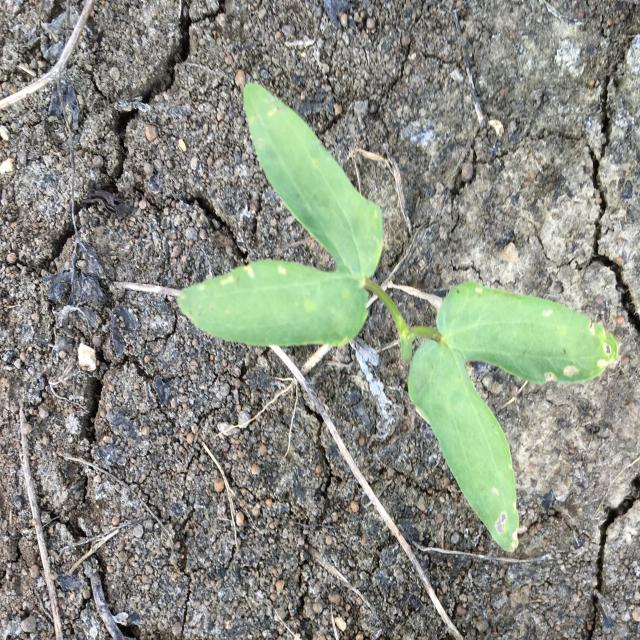MorningGlory: (176, 83, 618, 552)
